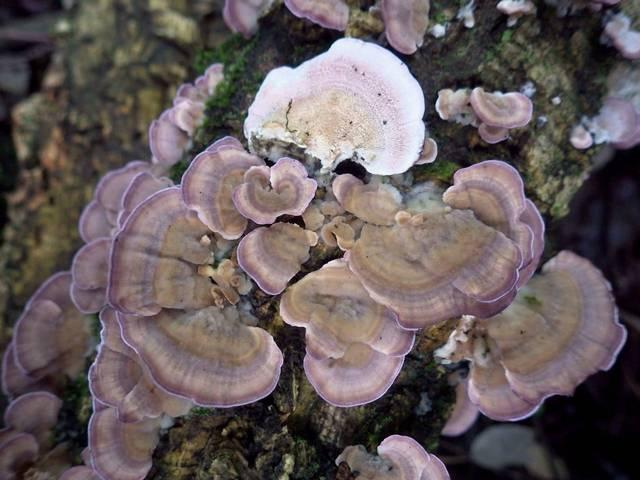poisonous_mushroom: (0, 0, 632, 469), (241, 36, 431, 178)
